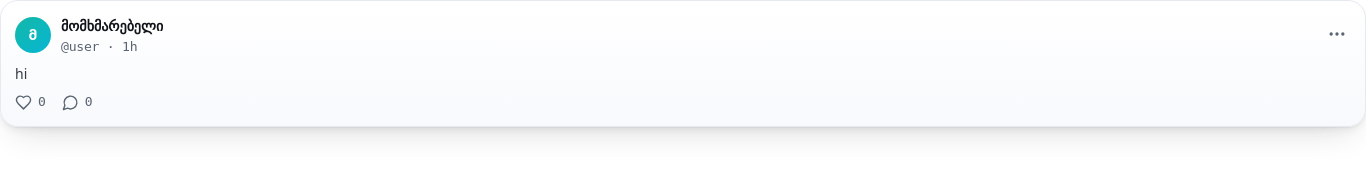
Scenario: GroupPost › shows an edit/delete menu only for the post's own author
Later steps or results of the test are not shown.
What coordinates should you click on to do the following:
click the button named "მეტი პარამეტრი"
I would click on:
 (1337, 34)
Its box is top-left (1323, 20), bottom-right (1351, 48).
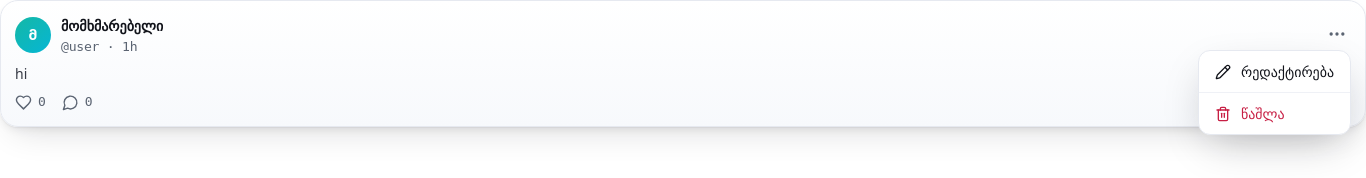
Expected: the button "რედაქტირება" is shown, top-left (1199, 51), bottom-right (1350, 92)
Expected: the button "წაშლა" is shown, top-left (1199, 92), bottom-right (1350, 134)
